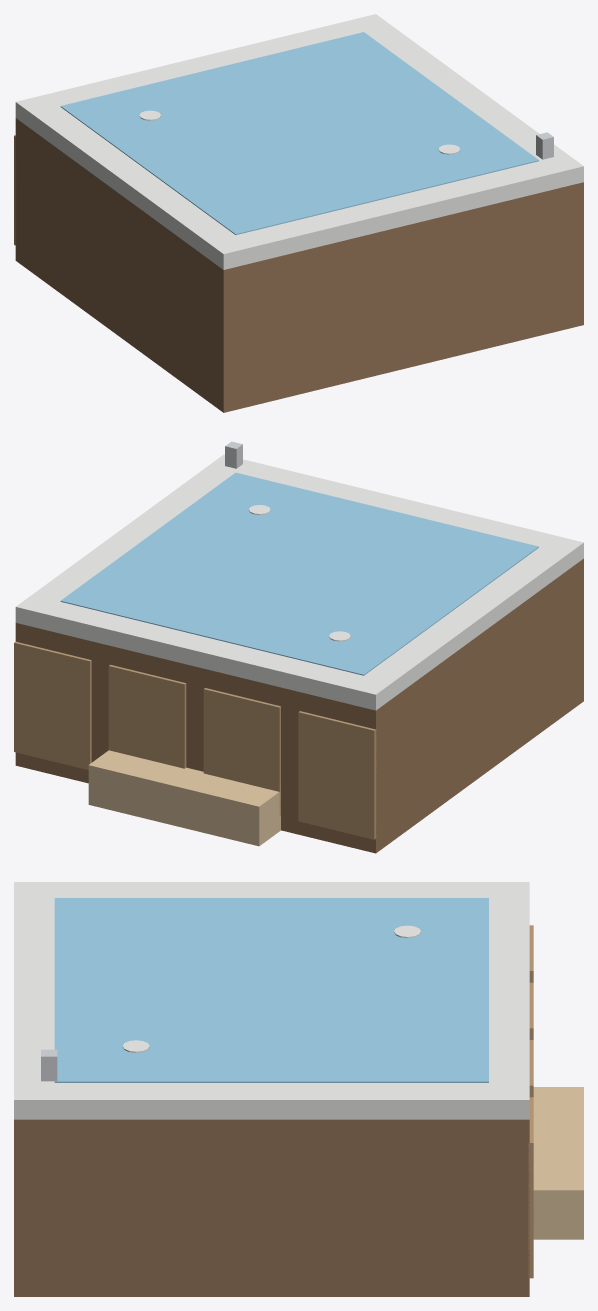
Rendered from hot_tub.glb.
The picture shows the model from 3 angles, top to bottom: view 1: azimuth 30°, elevation 25°; view 2: azimuth 150°, elevation 25°; view 3: azimuth 270°, elevation 25°; orthographic projection. The views are drawn at different scales.
Visible parts, largest first — view 1: hot_tub; view 2: hot_tub; view 3: hot_tub.
Part boxes in pixels (x1,y1,x2,y2): hot_tub: [14, 14, 583, 412]; hot_tub: [14, 441, 583, 853]; hot_tub: [14, 882, 583, 1296].
Size of the model in its own units: 1.9 by 0.93 by 2.1.
